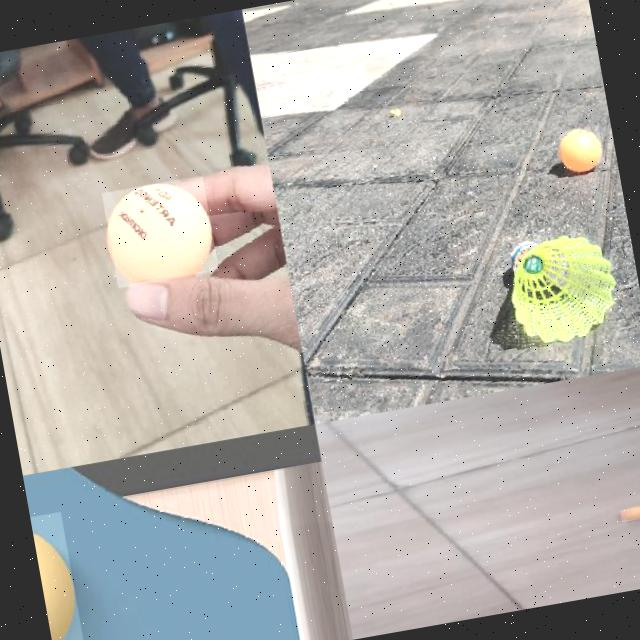ping-pong-ball: (101, 174, 220, 290), (30, 511, 87, 640), (556, 124, 606, 176), (619, 502, 640, 522)
